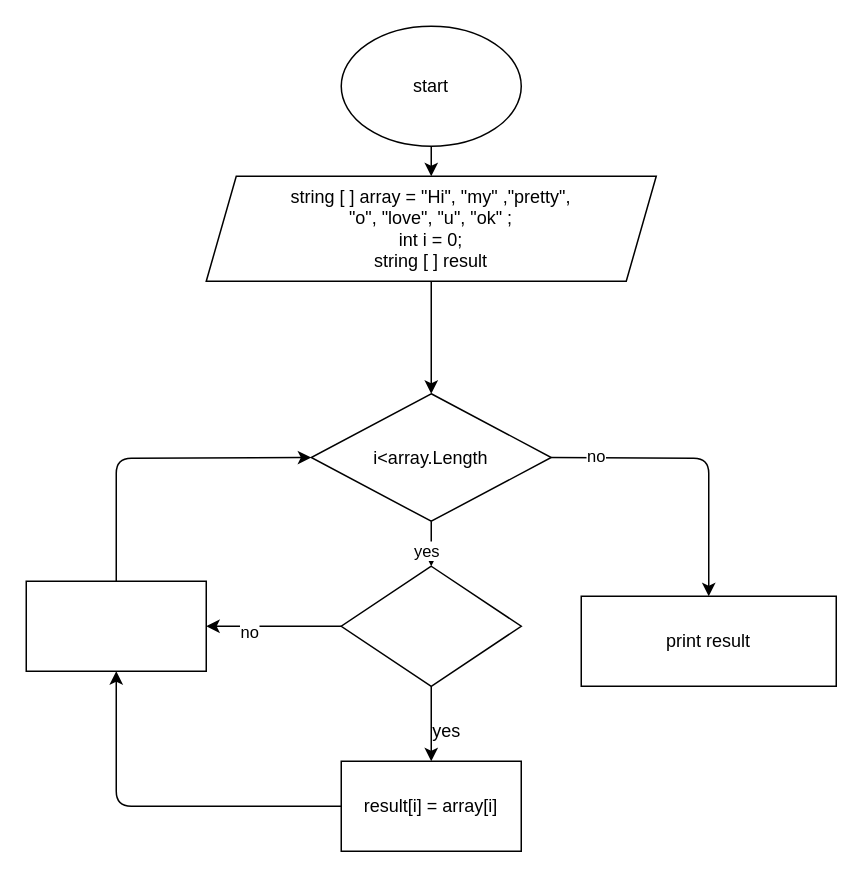
The diagram is 863 pixels wide and 878 high, and some of its shapes have lost their labels. Each missing label, with the centre of its shape:
"array[i].Length <=3" goes at (430,625).
"i++" goes at (115,625).
